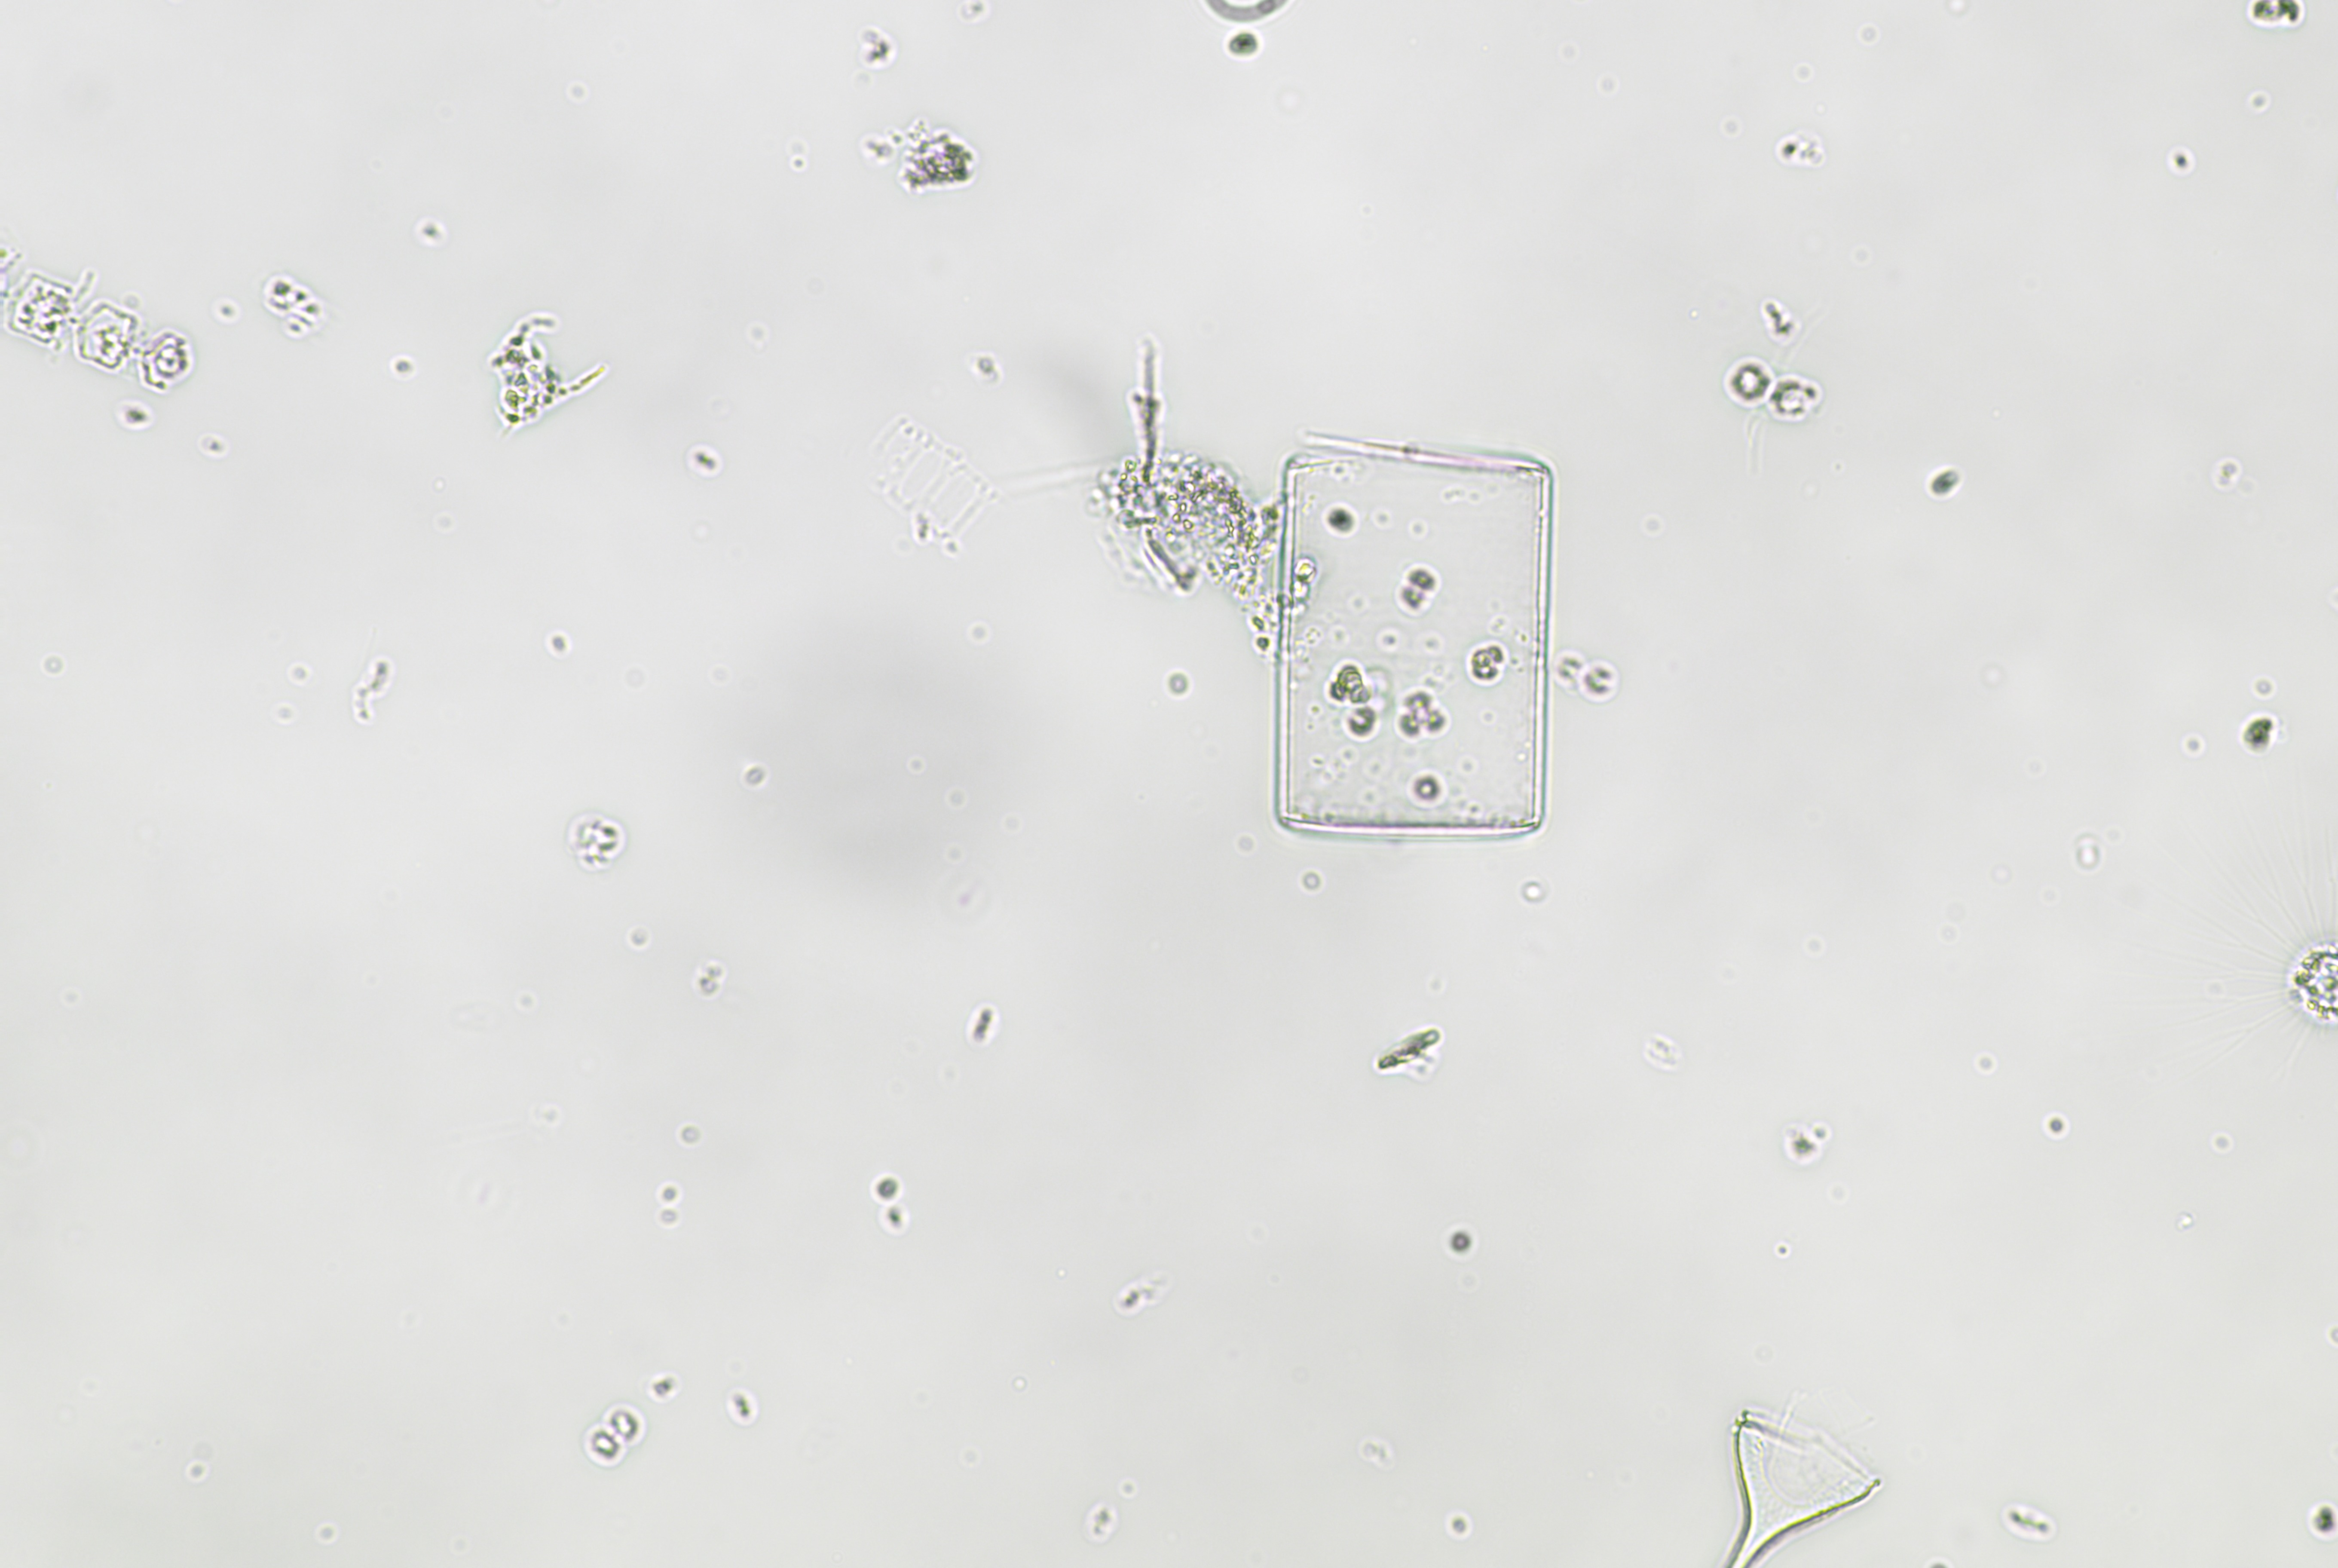guinardia flaccida: (1251, 402, 1596, 873)
